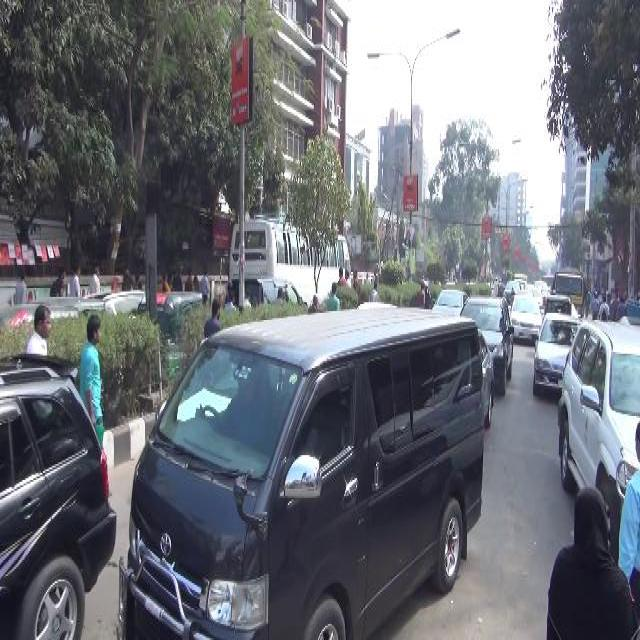bus: (228, 206, 354, 313)
car: (0, 349, 116, 639), (559, 318, 639, 546), (462, 290, 512, 396), (532, 310, 584, 398), (84, 280, 146, 321), (510, 289, 542, 351), (431, 280, 465, 321)
minivan: (229, 268, 307, 326)
pickup: (551, 269, 585, 311)
three wheelers -CNG-: (136, 282, 204, 379), (0, 300, 80, 376), (30, 296, 106, 326), (546, 290, 570, 324)
van: (128, 304, 486, 638)
